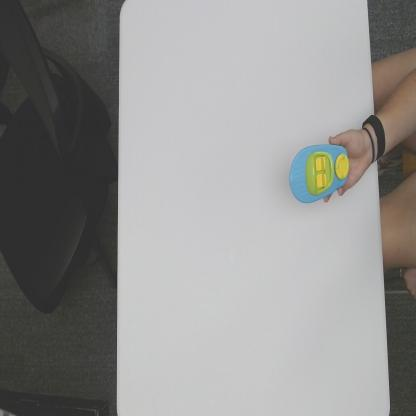Boat: (289, 142, 350, 206)
Hand: (324, 129, 372, 204)
